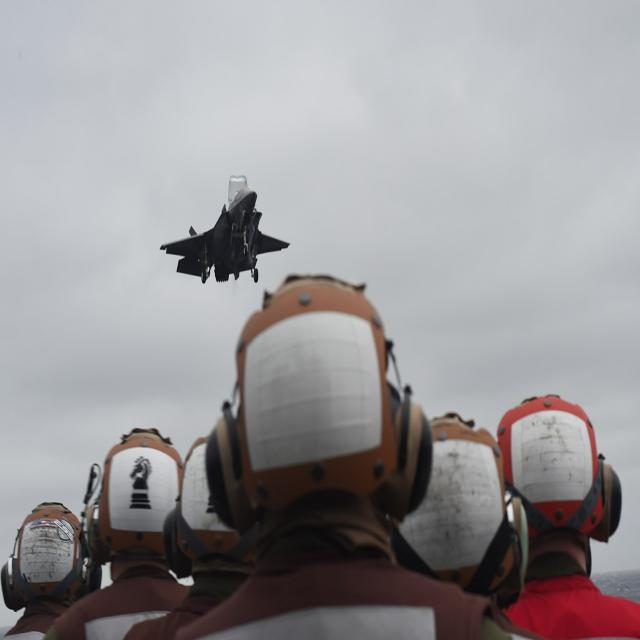MIL_Plane: (158, 190, 292, 266)
